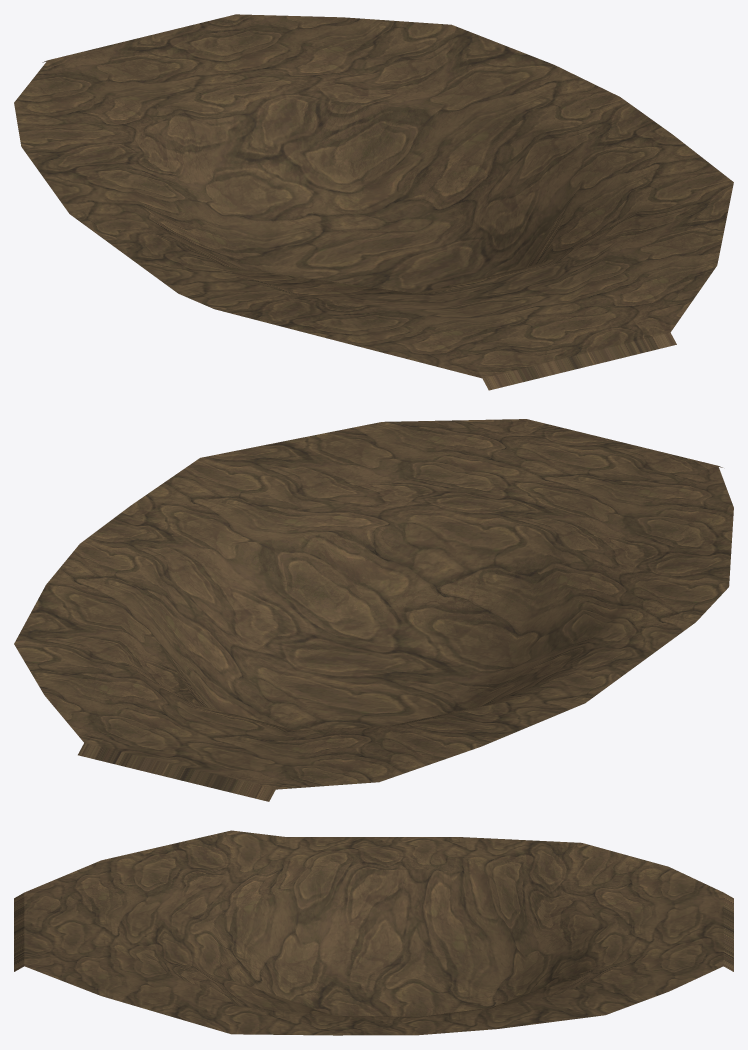
Rendered from cave floor large lake.FBX.
3 renders of one model, top to bottom at view 1: azimuth 30°, elevation 25°; view 2: azimuth 150°, elevation 25°; view 3: azimuth 270°, elevation 25°, orthographic. The views are drawn at different scales.
Parts seen in each view (by area): view 1: cave floor large lake; view 2: cave floor large lake; view 3: cave floor large lake.
Part boxes in pixels (x1,y1,x2,y2): cave floor large lake: (14, 14, 733, 390); cave floor large lake: (14, 419, 733, 801); cave floor large lake: (14, 830, 733, 1035).
Bounding box in the file's own units: 55.73 × 9.1 × 82.39.
